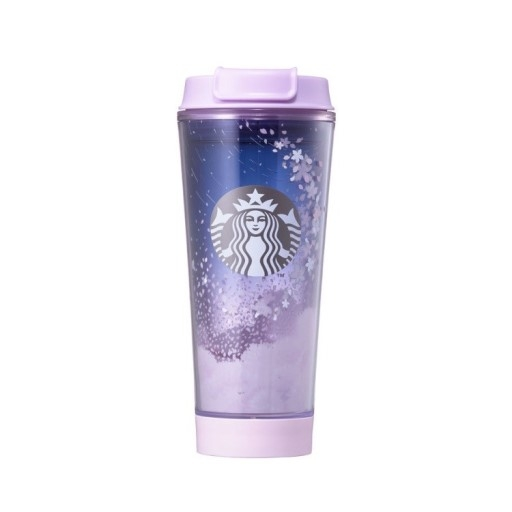Tumbler: (175, 64, 339, 459)
